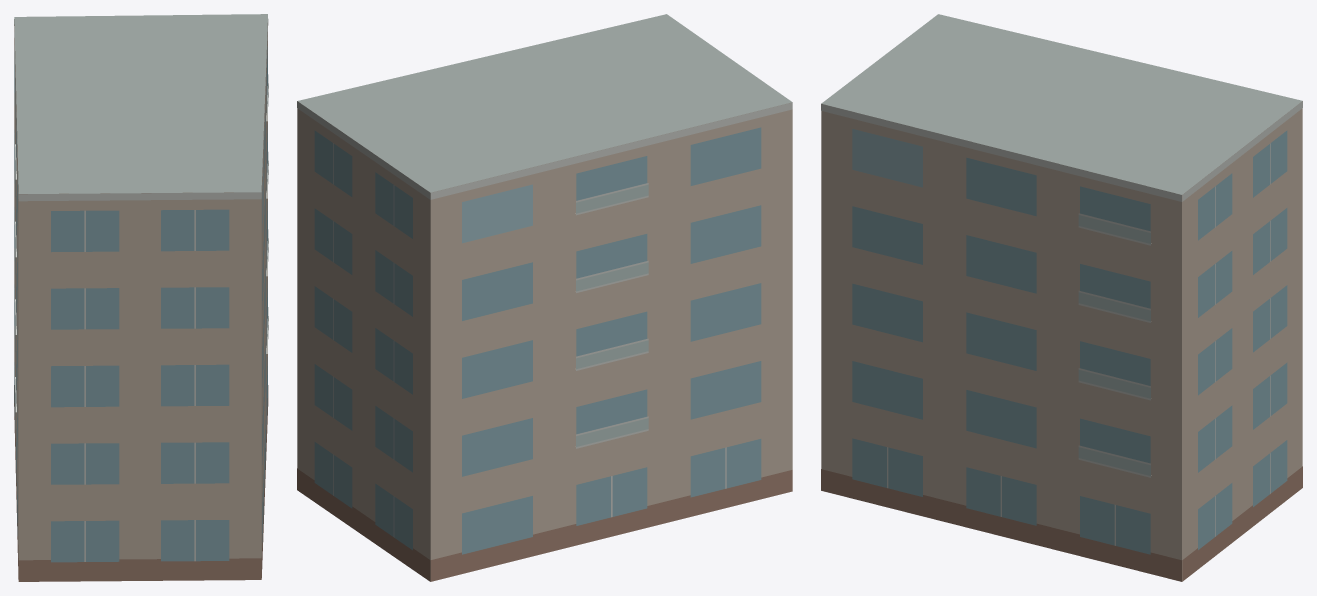
Rendered from survey-upis-32846238.glb.
The picture shows the model from 3 angles, left to right: view 1: azimuth 30°, elevation 25°; view 2: azimuth 150°, elevation 25°; view 3: azimuth 270°, elevation 25°; orthographic projection.
Parts seen in each view (by area): view 1: survey-upis-32846238.tmp; view 2: survey-upis-32846238.tmp; view 3: survey-upis-32846238.tmp.
Part boxes in pixels (box(x1,y1,x2,y2)): survey-upis-32846238.tmp: box(14, 14, 268, 581); survey-upis-32846238.tmp: box(297, 14, 792, 581); survey-upis-32846238.tmp: box(821, 14, 1302, 581).
Size of the model in its own units: 13.35 by 13.3 by 15.02.
